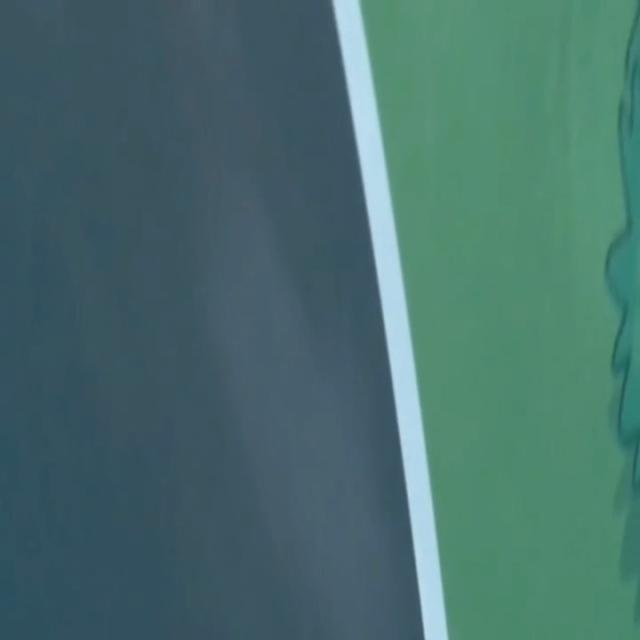right: (332, 0, 447, 639)
